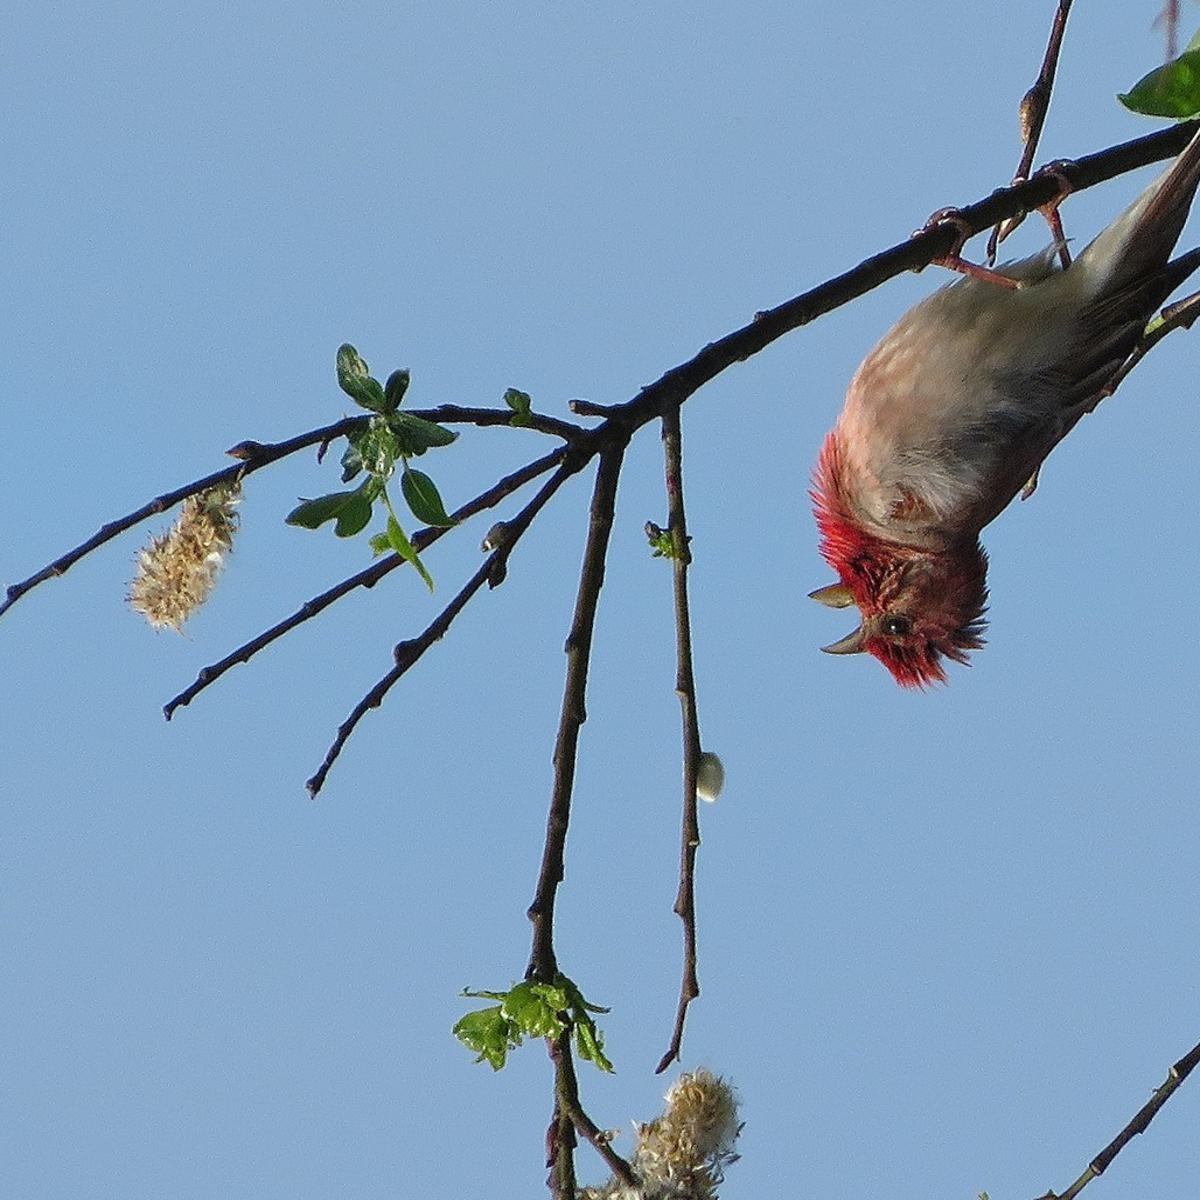rosefinch: (810, 221, 1152, 693)
